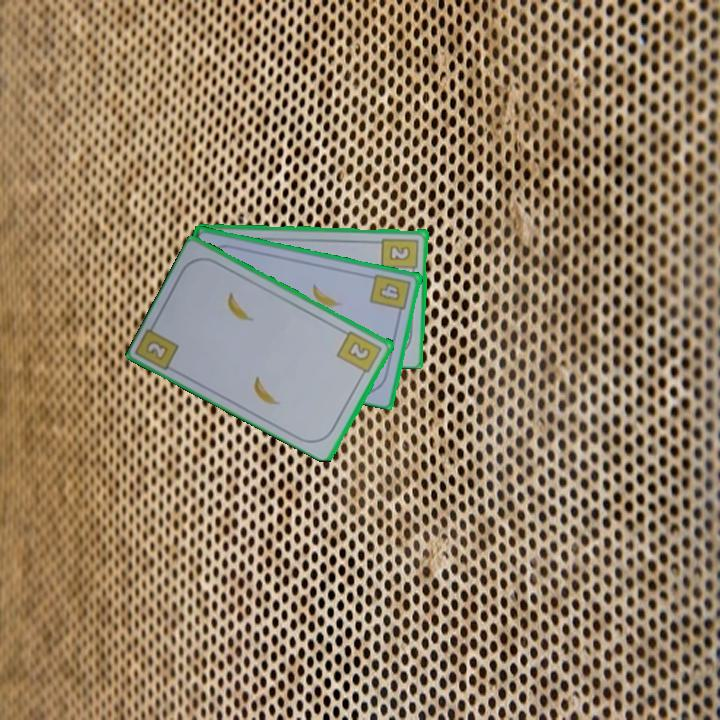2b: (334, 327, 385, 380), (379, 234, 421, 277), (142, 337, 171, 363)
4b: (367, 270, 414, 319)
